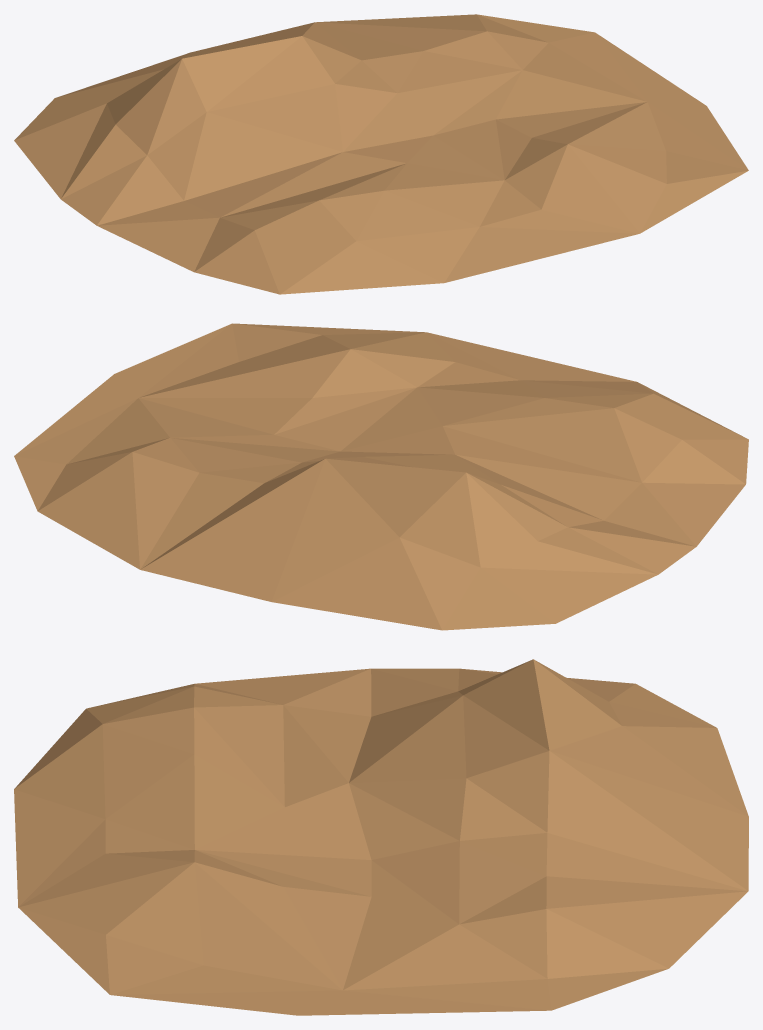
File: TB_D_Env_DuneC_A.FBX
The picture shows the model from 3 angles, top to bottom: view 1: azimuth 30°, elevation 25°; view 2: azimuth 150°, elevation 25°; view 3: azimuth 270°, elevation 25°; orthographic projection. The views are drawn at different scales.
Visible parts, largest first — view 1: TB_D_Env_DuneC_A; view 2: TB_D_Env_DuneC_A; view 3: TB_D_Env_DuneC_A.
Boxes of the visible parts, box(x1,y1,x2,y2) form: TB_D_Env_DuneC_A: box(14, 14, 748, 294); TB_D_Env_DuneC_A: box(14, 323, 748, 630); TB_D_Env_DuneC_A: box(14, 659, 748, 1015).
Bounding box in the file's own units: 15.72 × 2.11 × 14.07.
